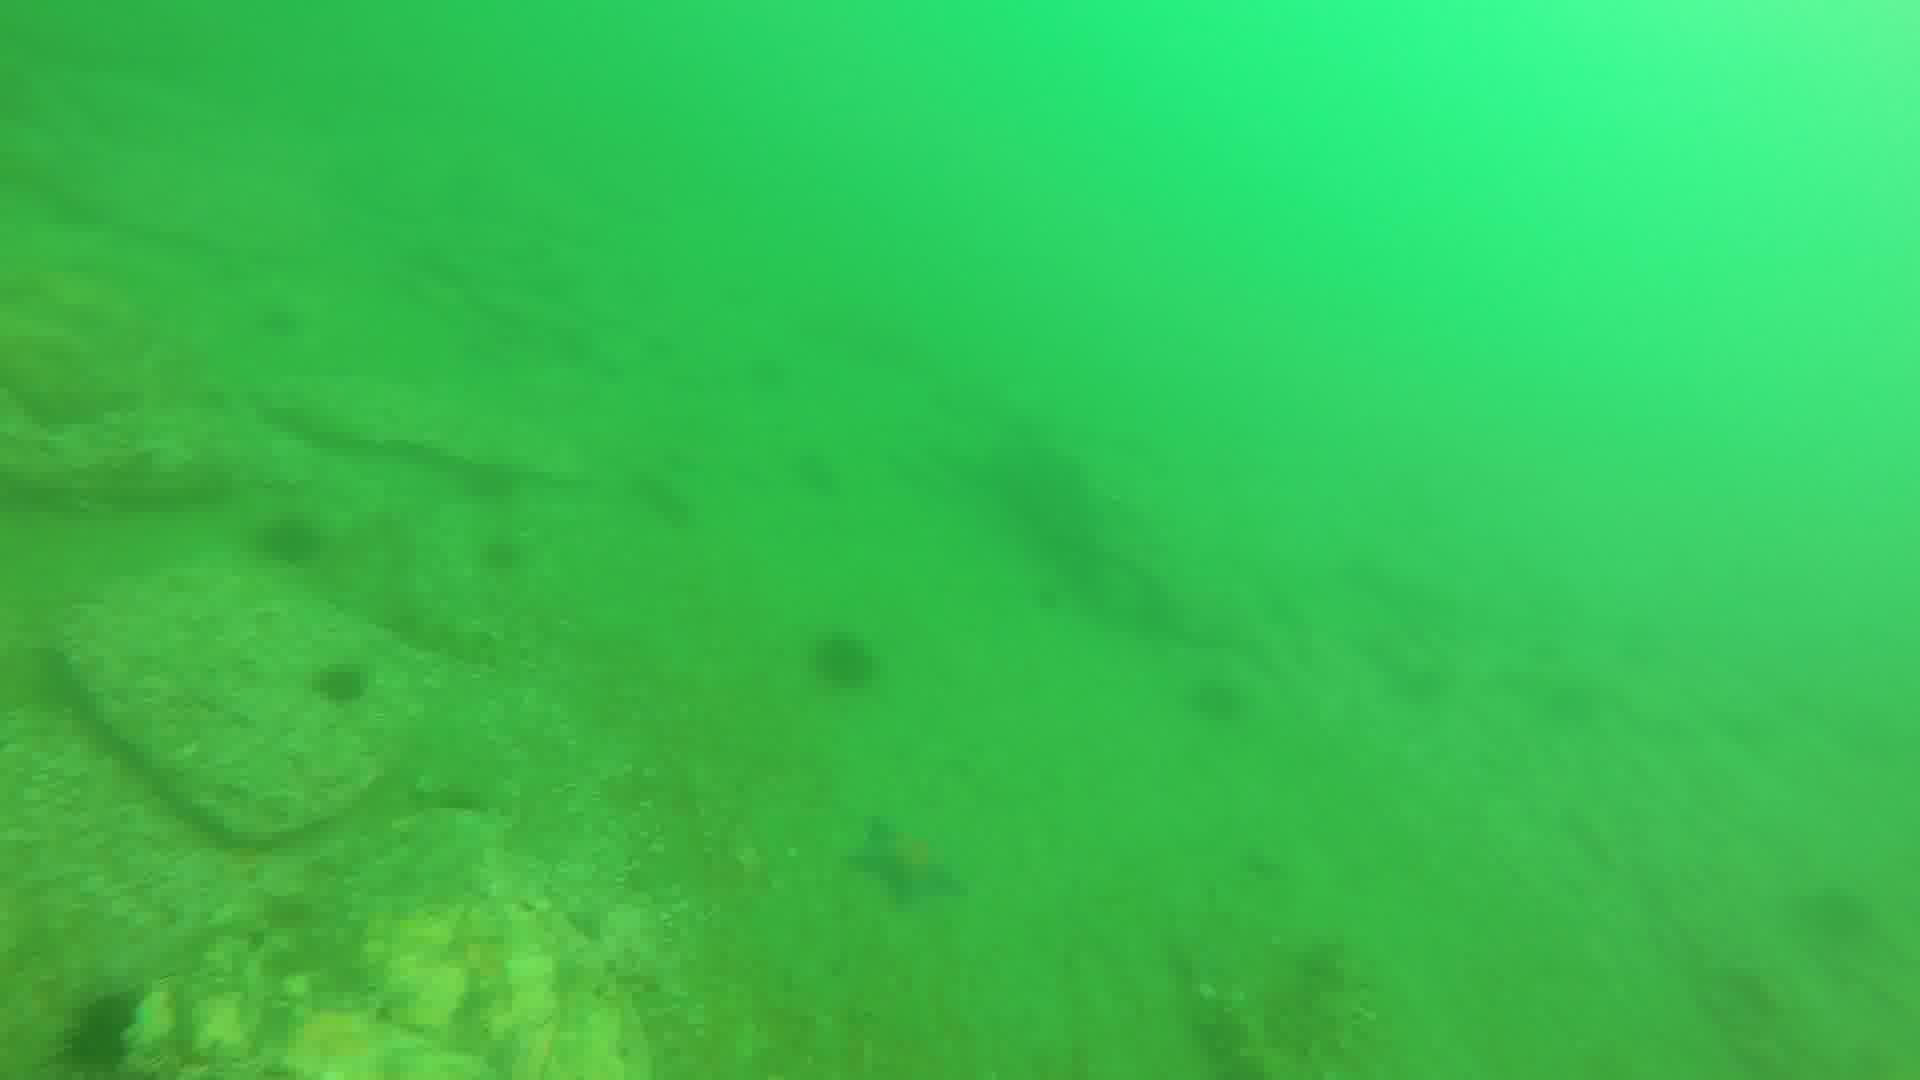echinus: (55, 992, 150, 1075), (807, 634, 884, 692), (247, 513, 323, 567), (311, 655, 371, 709), (1187, 678, 1244, 724), (481, 535, 530, 578)
starfish: (855, 812, 972, 906)
